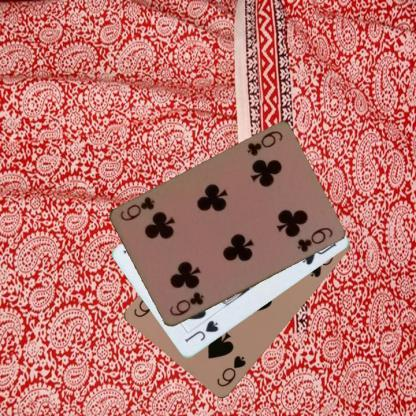6c: (244, 128, 284, 158), (166, 289, 205, 318)
6s: (213, 353, 247, 389)
Js: (182, 318, 219, 344)
